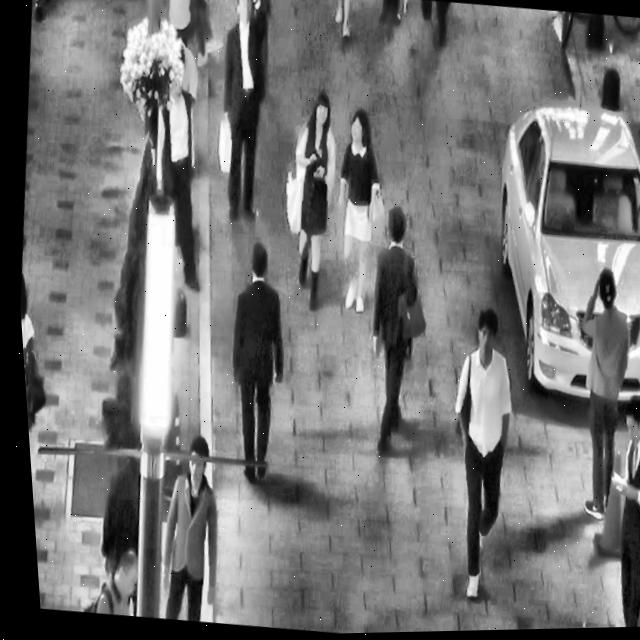light_vehicle: (464, 79, 640, 422)
